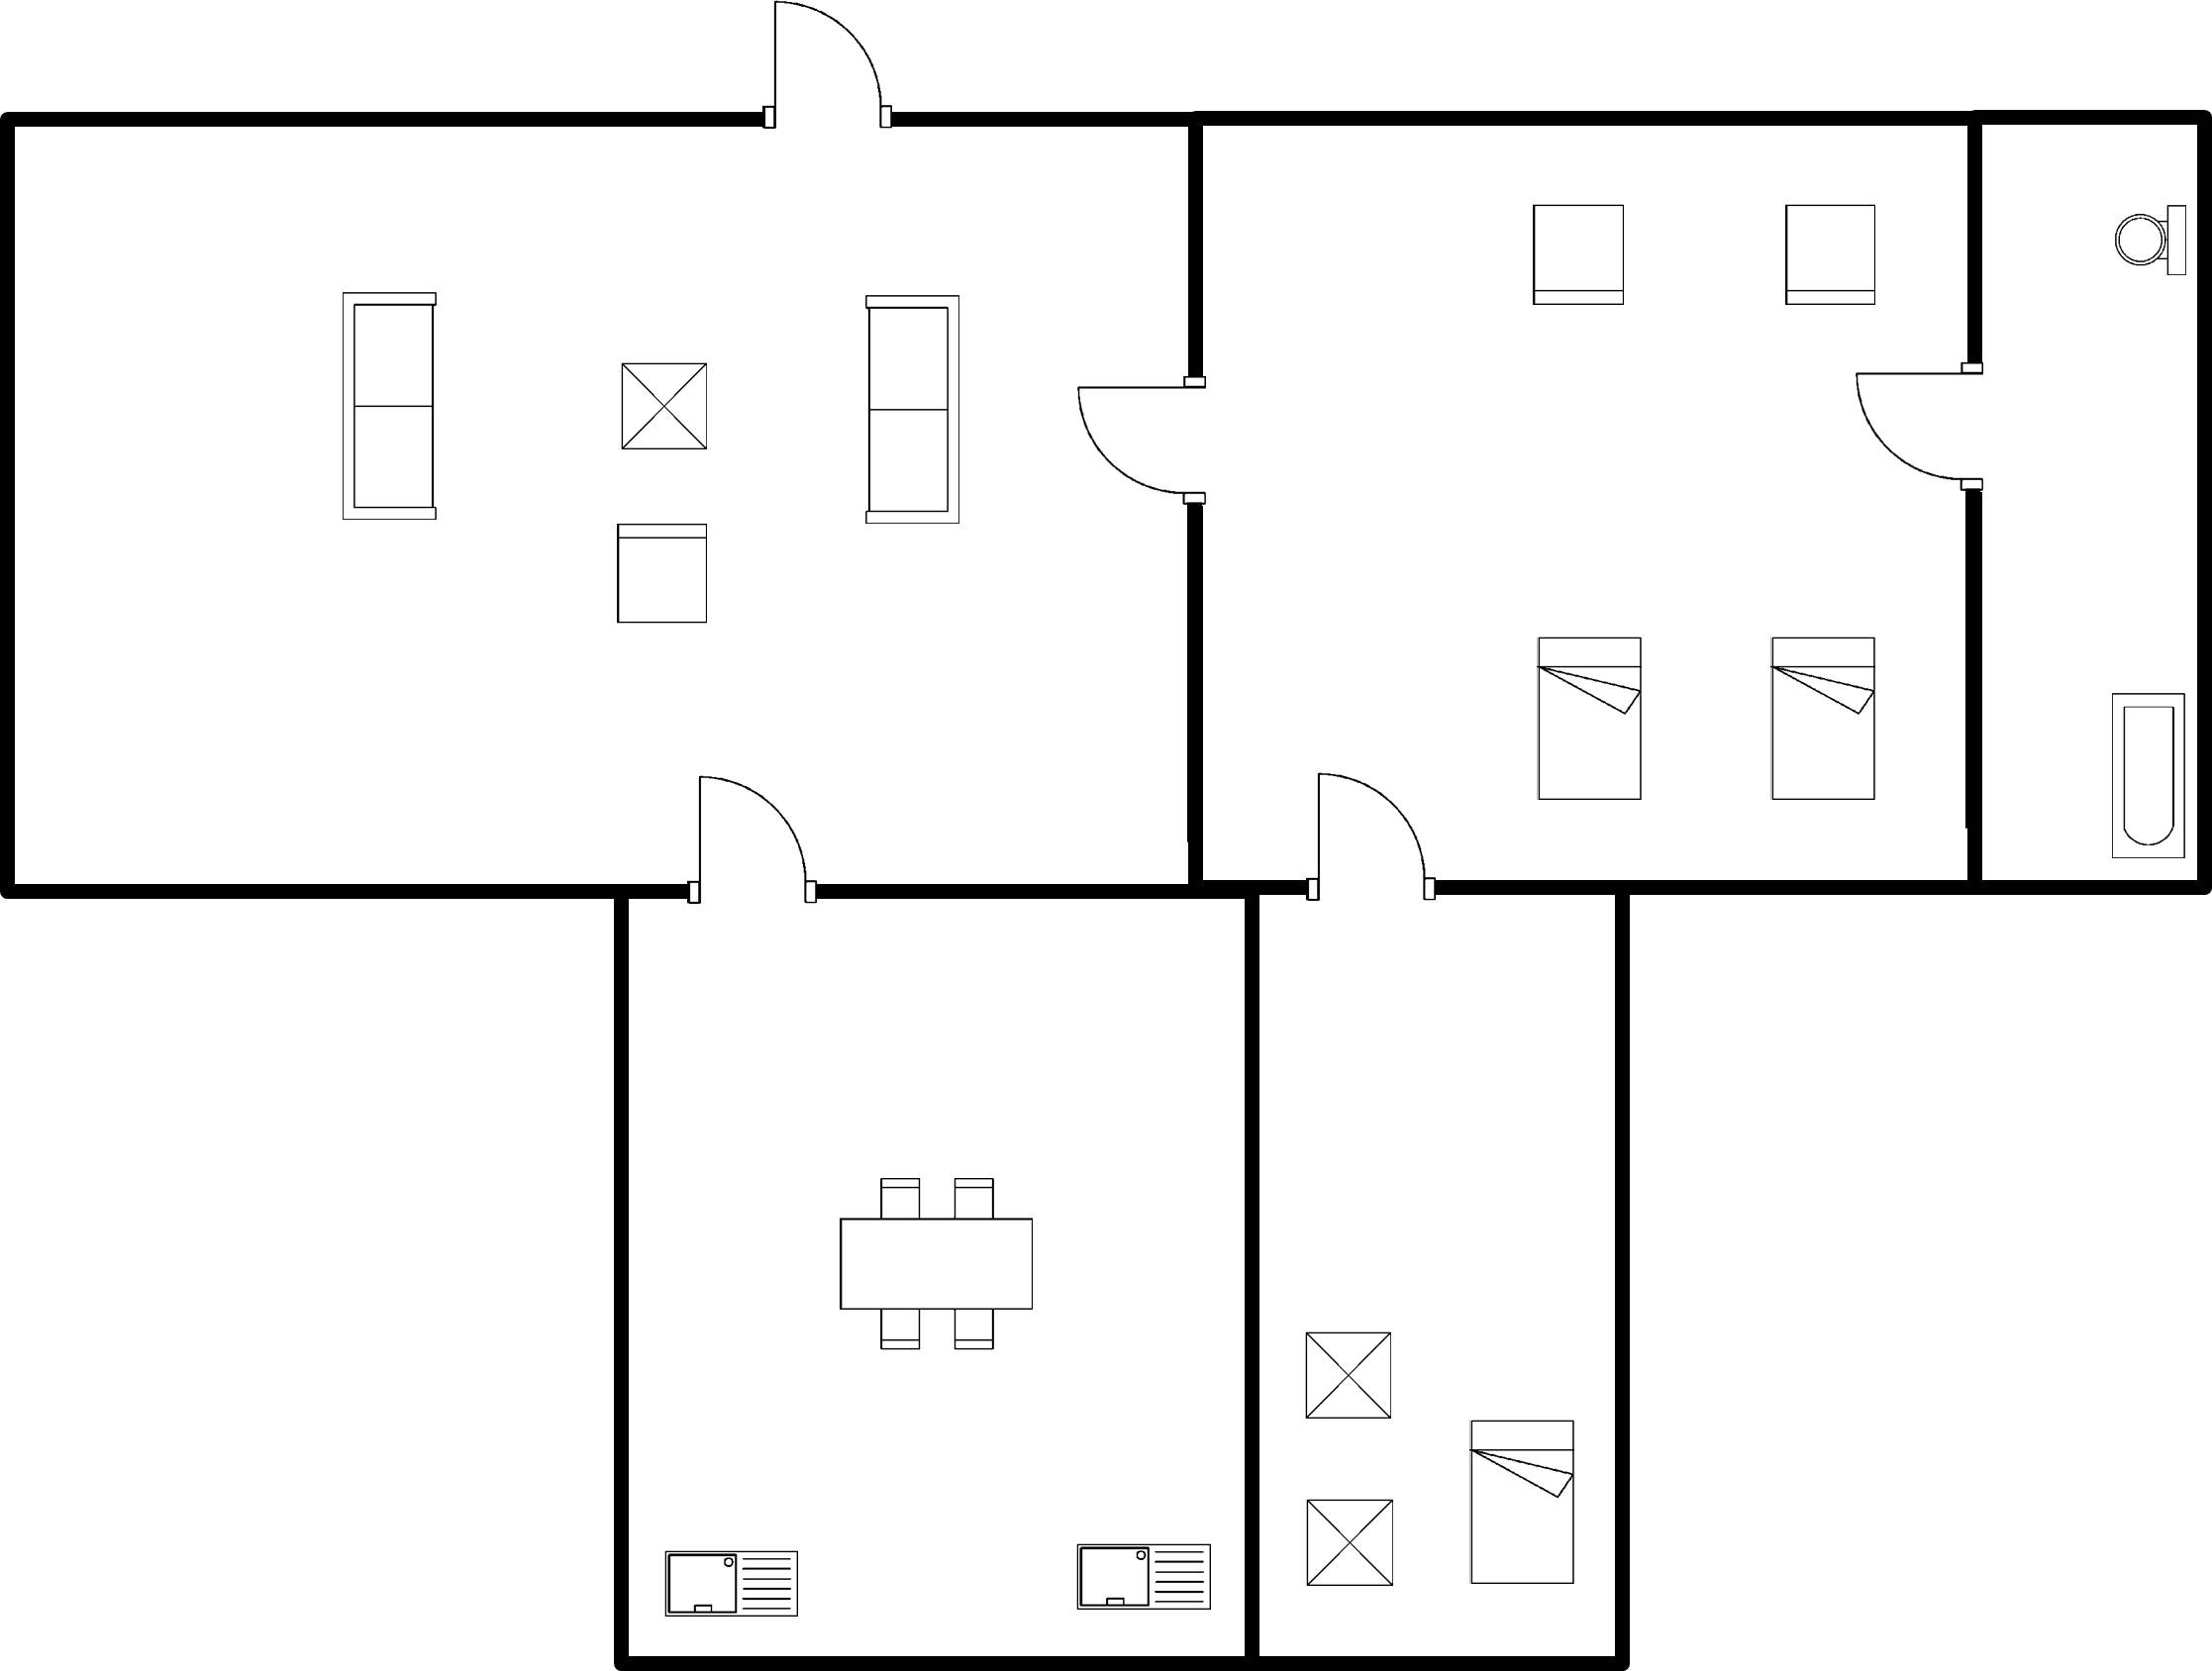bed: (1759, 625, 1890, 815), (1458, 1410, 1588, 1600), (1527, 625, 1652, 808)
coffee_table: (609, 351, 718, 463), (1296, 1319, 1401, 1434), (1289, 1488, 1403, 1593)
dining_table: (827, 1166, 1045, 1364)
large_sink: (2099, 196, 2190, 293)
large_sofa: (327, 277, 449, 534), (855, 279, 968, 539)
sink: (1063, 1533, 1220, 1622), (652, 1541, 809, 1625)
small_sofa: (1773, 194, 1887, 320), (1522, 193, 1635, 320), (603, 514, 718, 633)
tub: (2096, 678, 2192, 868)
